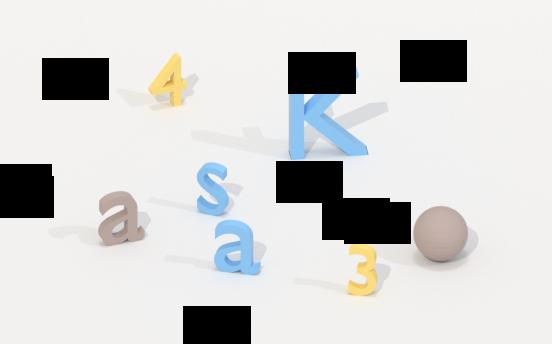3: (341, 238, 384, 299)
4: (143, 51, 193, 111)
a: (94, 190, 149, 250), (212, 219, 264, 279)
cau: (409, 203, 472, 265)
k: (284, 64, 370, 160)
s: (191, 160, 233, 218)
